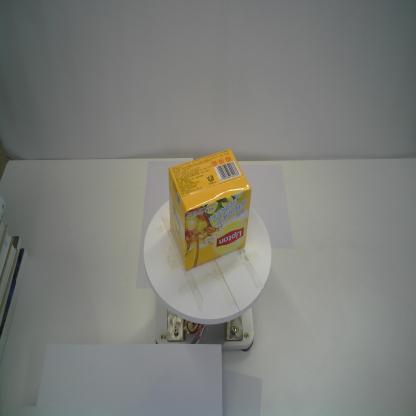Instant Drink: (167, 147, 252, 273)
